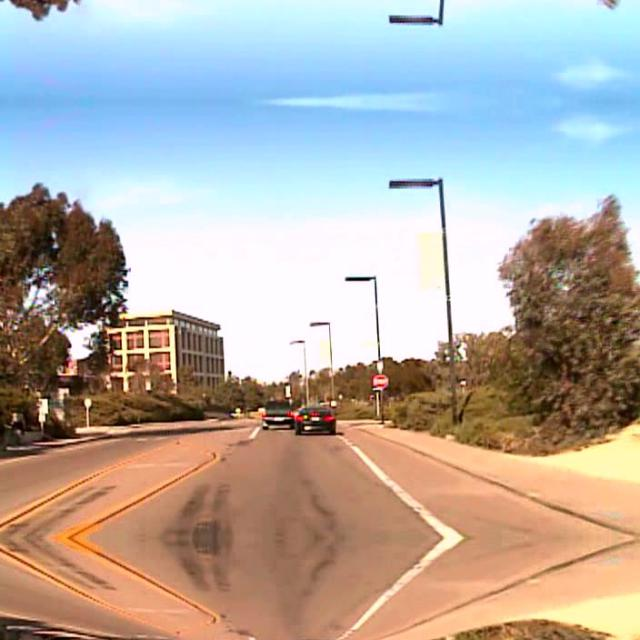stop: (372, 372, 388, 388)
